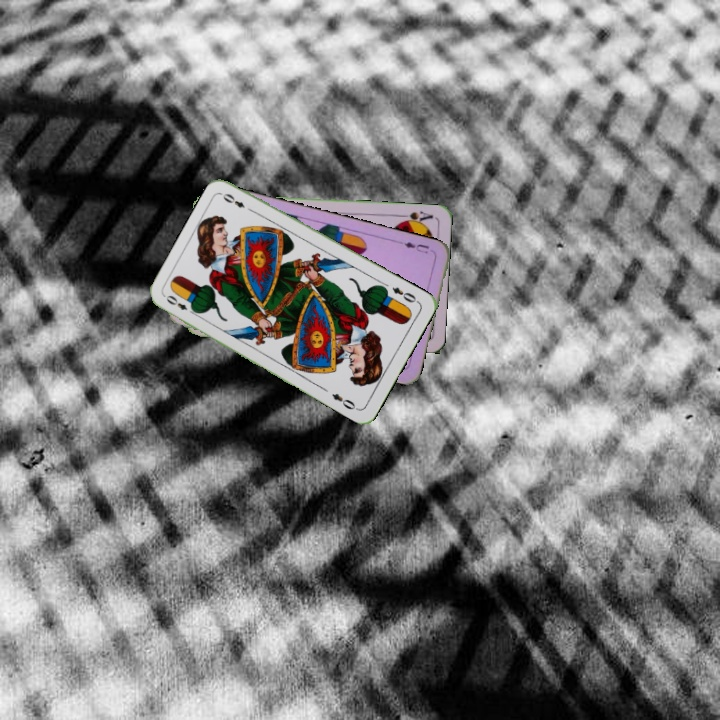EO: (162, 291, 199, 318), (388, 283, 421, 305)
EU: (396, 238, 431, 256)
SA: (395, 207, 435, 227)
